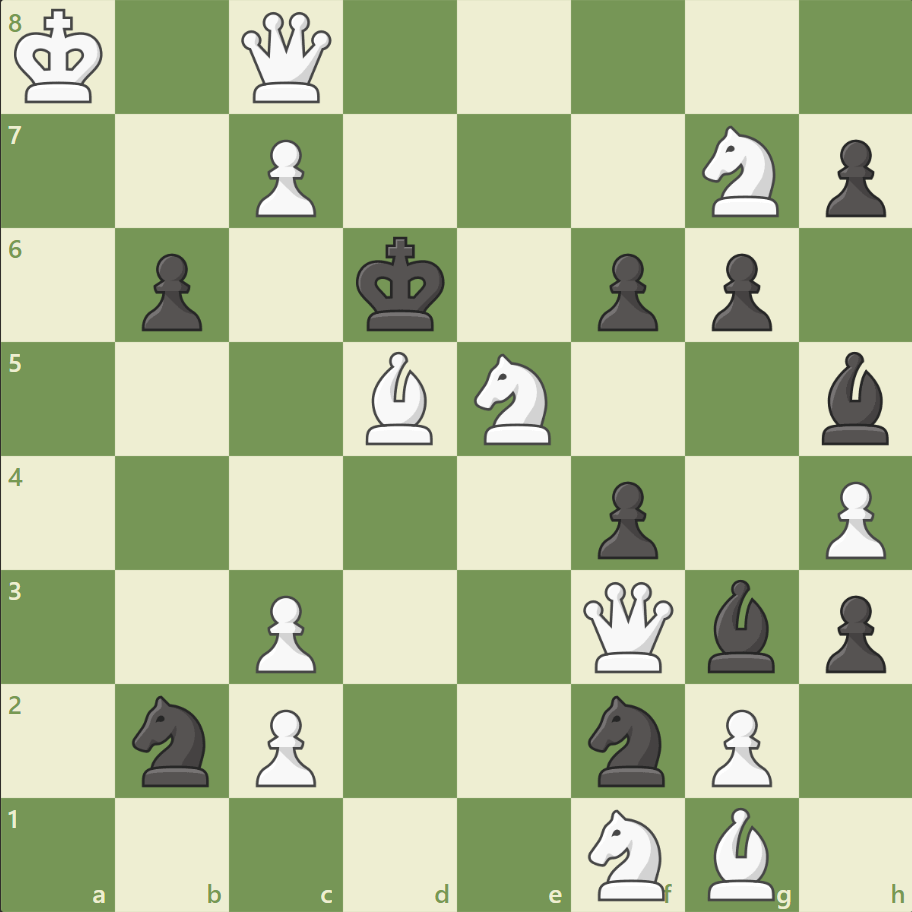B: (698, 801, 782, 904), (358, 347, 442, 449)
K: (11, 4, 111, 112)
N: (692, 121, 789, 223), (465, 348, 562, 450), (579, 802, 676, 904)
P: (247, 132, 322, 223), (247, 586, 322, 677), (247, 700, 322, 791), (701, 700, 776, 791), (815, 473, 889, 564)
Q: (578, 576, 677, 676), (237, 9, 336, 108)
b: (812, 347, 896, 449), (698, 574, 782, 676)
k: (351, 231, 451, 339)
n: (124, 688, 222, 791), (579, 688, 676, 791)
p: (133, 246, 208, 337), (701, 246, 776, 337), (815, 132, 889, 223), (588, 246, 662, 337), (588, 473, 662, 564), (815, 586, 889, 677)
